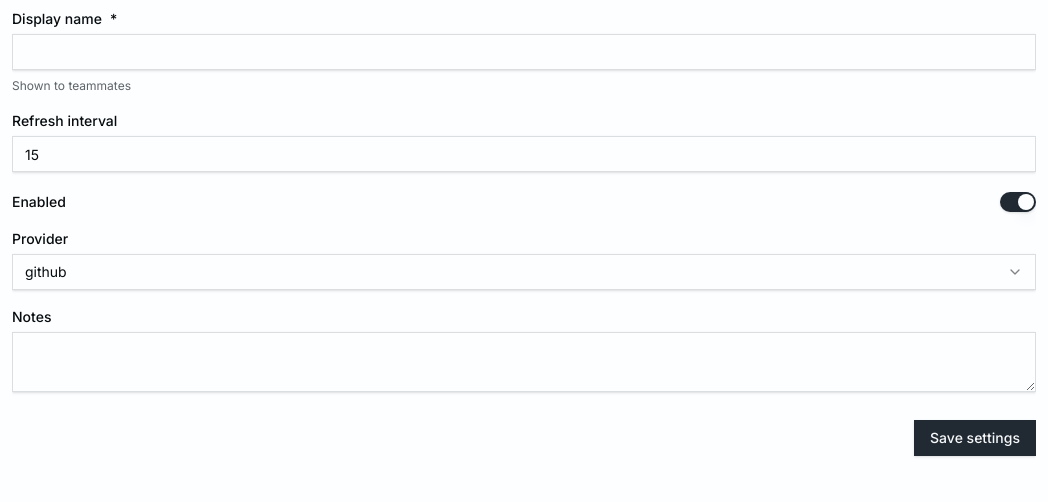
PluginSettingsForm › shows required errors inline and does not submit invalid values
Click the button "Save settings" at (975, 438), box [914, 420, 1036, 456]
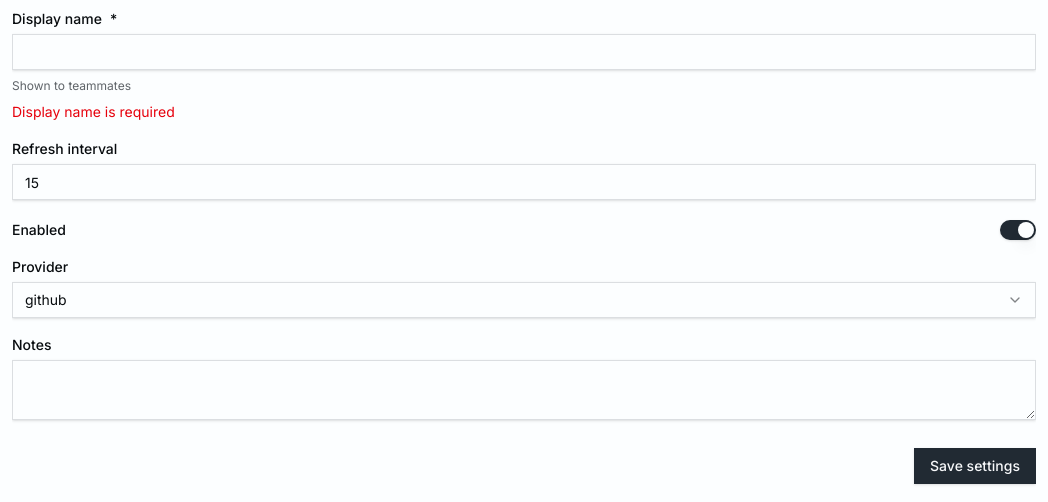
Expected: the text "Display name is required" is shown, [12, 103, 175, 120]
